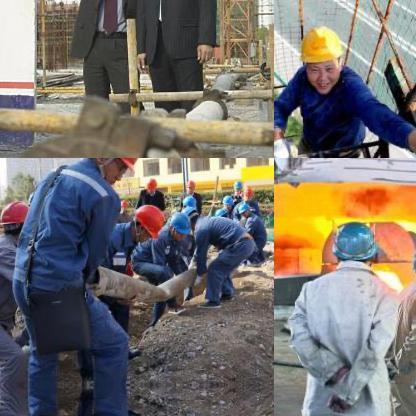Helmet: (294, 17, 348, 88), (326, 222, 376, 266), (80, 158, 149, 183), (0, 194, 30, 241), (129, 200, 163, 240), (164, 210, 188, 236), (181, 205, 199, 221), (142, 176, 156, 192), (182, 176, 196, 192), (238, 200, 250, 216), (219, 194, 232, 208), (243, 185, 253, 199), (232, 178, 242, 192)
